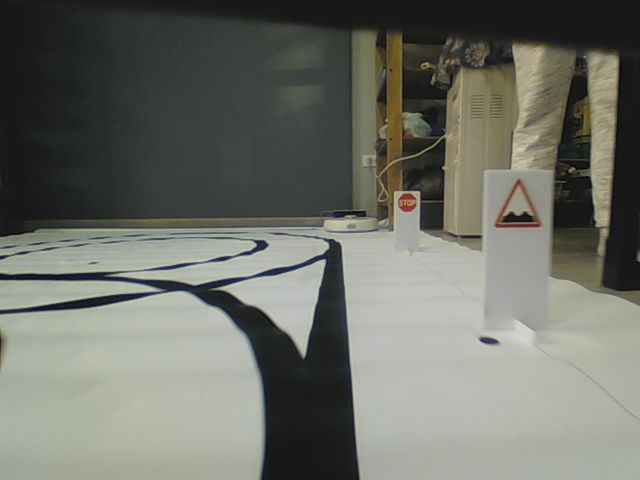Nerov: (494, 177, 543, 228)
Stop: (397, 193, 418, 213)
